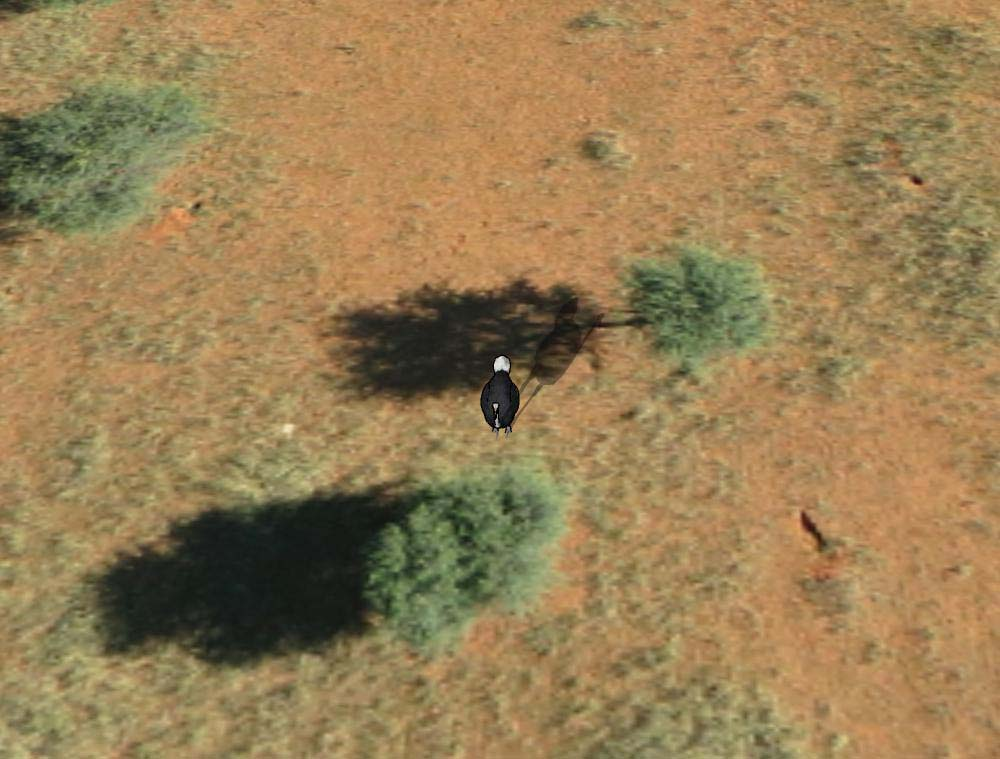ostrich: (473, 351, 526, 435)
